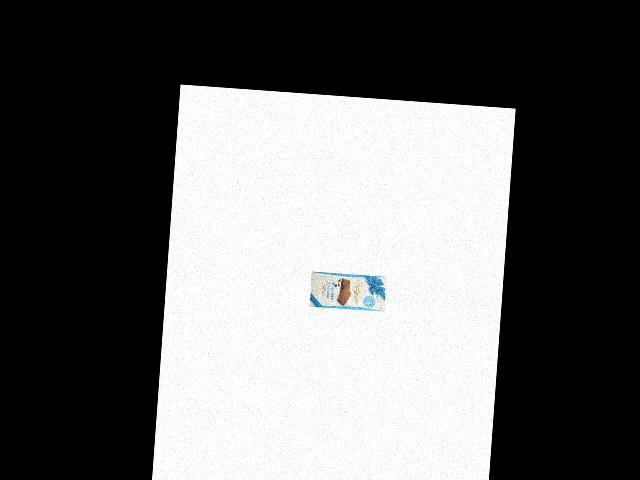chocolate: (307, 266, 388, 315)
